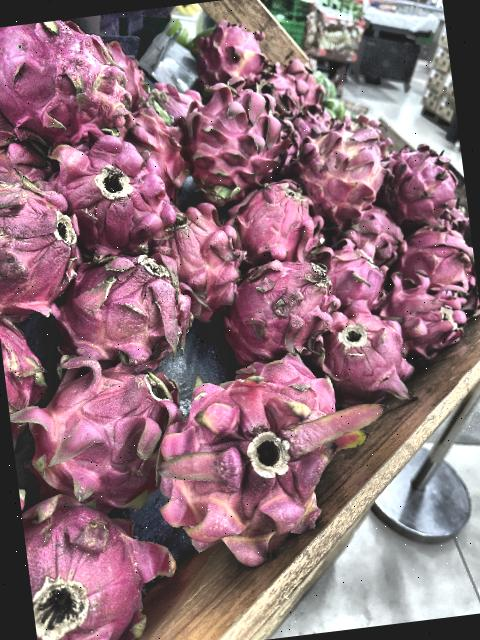buah-naga-belum-matang: (294, 112, 390, 224)
buah-naga-matang: (138, 358, 340, 560), (20, 475, 193, 640), (15, 345, 175, 508), (45, 241, 194, 374), (0, 13, 136, 147), (47, 121, 177, 252), (180, 67, 290, 208), (213, 249, 343, 357), (0, 162, 86, 323), (154, 200, 247, 308), (311, 303, 414, 396), (225, 173, 324, 259), (378, 138, 468, 230), (380, 270, 470, 355), (186, 13, 274, 87), (390, 218, 477, 290), (316, 232, 395, 308), (126, 98, 192, 188), (334, 202, 402, 256)
